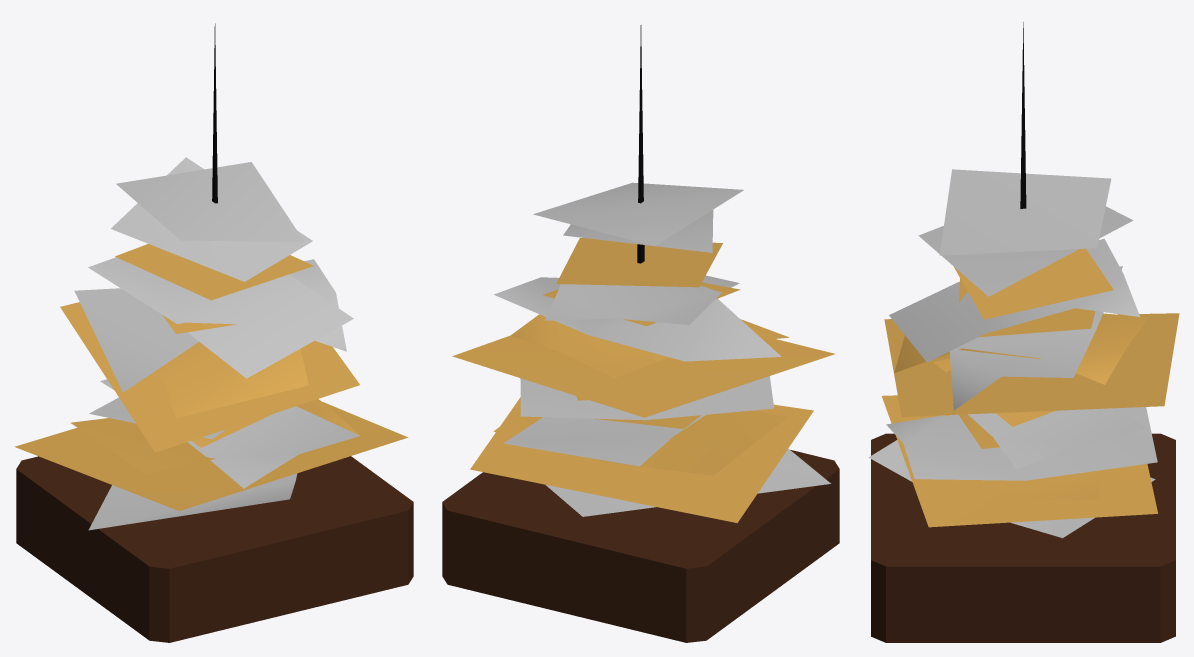
File: PaperSpike_02.fbx
The picture shows the model from 3 angles, left to right: view 1: azimuth 30°, elevation 25°; view 2: azimuth 150°, elevation 25°; view 3: azimuth 270°, elevation 25°; orthographic projection. The views are drawn at different scales.
Visible parts, largest first — view 1: PaperSpike_02; view 2: PaperSpike_02; view 3: PaperSpike_02.
Part boxes in pixels (x1,y1,x2,y2): PaperSpike_02: (14,23,413,642); PaperSpike_02: (442,25,839,642); PaperSpike_02: (868,22,1179,642).
Size of the model in its own units: 0.2393 by 0.4075 by 0.2043.
